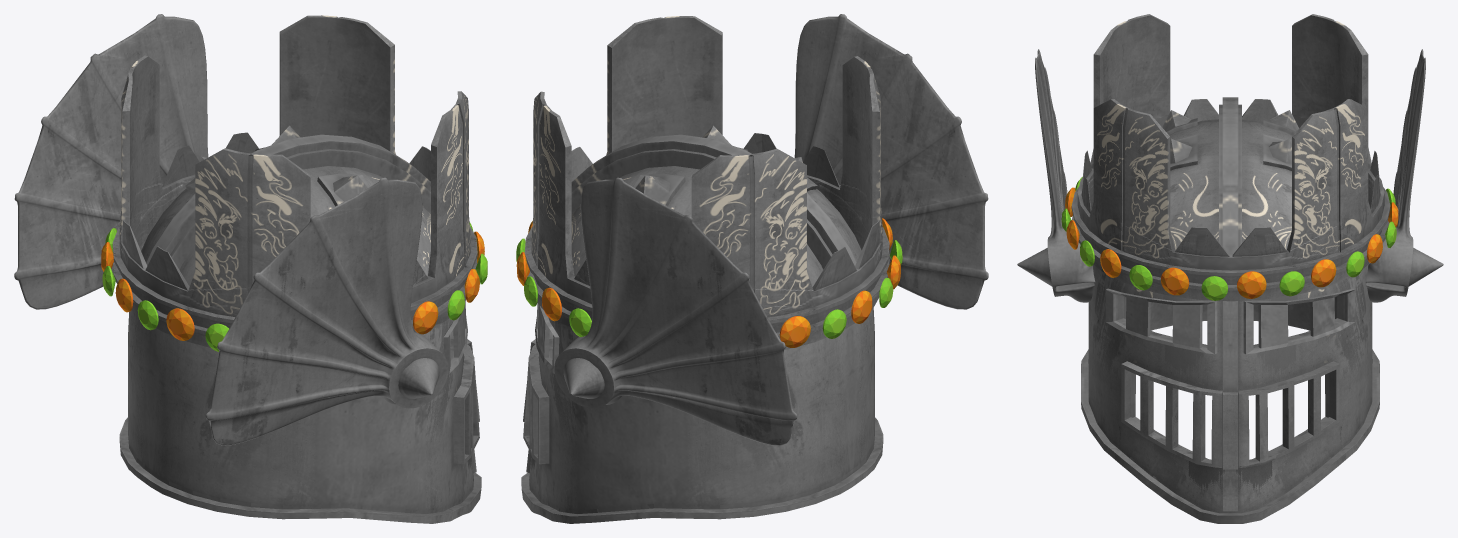
File: Boss Knighti.fbx
3 renders of one model, left to right at view 1: azimuth 30°, elevation 25°; view 2: azimuth 150°, elevation 25°; view 3: azimuth 270°, elevation 25°, orthographic. The views are drawn at different scales.
Visible parts, largest first — view 1: Ears, Helmet, Crown, Gem 2, Mouth, Gem 1, Eyes; view 2: Ears, Helmet, Crown, Gem 2, Mouth, Gem 1, Eyes; view 3: Helmet, Crown, Mouth, Ears, Eyes, Gem 2, Gem 1.
Part boxes in pixels (x1=…): Ears: x1=14, y1=14, x2=448, y2=445; Helmet: x1=119, y1=125, x2=481, y2=523; Crown: x1=112, y1=15, x2=477, y2=347; Gem 2: x1=101, y1=231, x2=484, y2=340; Mouth: x1=453, y1=339, x2=479, y2=464; Gem 1: x1=102, y1=222, x2=487, y2=351; Eyes: x1=443, y1=301, x2=467, y2=373; Ears: x1=554, y1=14, x2=988, y2=445; Helmet: x1=521, y1=125, x2=883, y2=523; Crown: x1=524, y1=16, x2=889, y2=350; Gem 2: x1=516, y1=218, x2=900, y2=347; Mouth: x1=523, y1=339, x2=549, y2=464; Gem 1: x1=516, y1=238, x2=902, y2=338; Eyes: x1=535, y1=303, x2=559, y2=373; Helmet: x1=1081, y1=97, x2=1379, y2=523; Crown: x1=1071, y1=14, x2=1390, y2=301; Mouth: x1=1121, y1=361, x2=1339, y2=469; Ears: x1=1017, y1=49, x2=1443, y2=302; Eyes: x1=1105, y1=288, x2=1355, y2=354; Gem 2: x1=1065, y1=187, x2=1398, y2=298; Gem 1: x1=1061, y1=177, x2=1396, y2=300.
Bounding box in the file's own units: 254 × 293 × 294.
